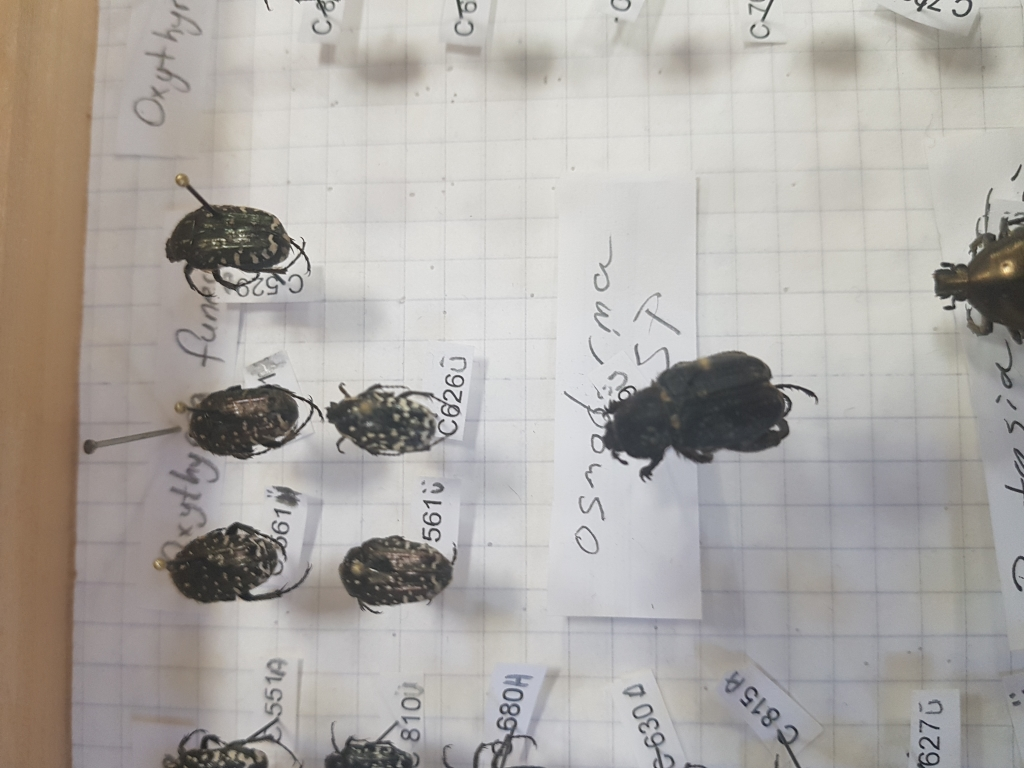Oxythyrea_funesta: (160, 192, 313, 292), (179, 377, 323, 463)
